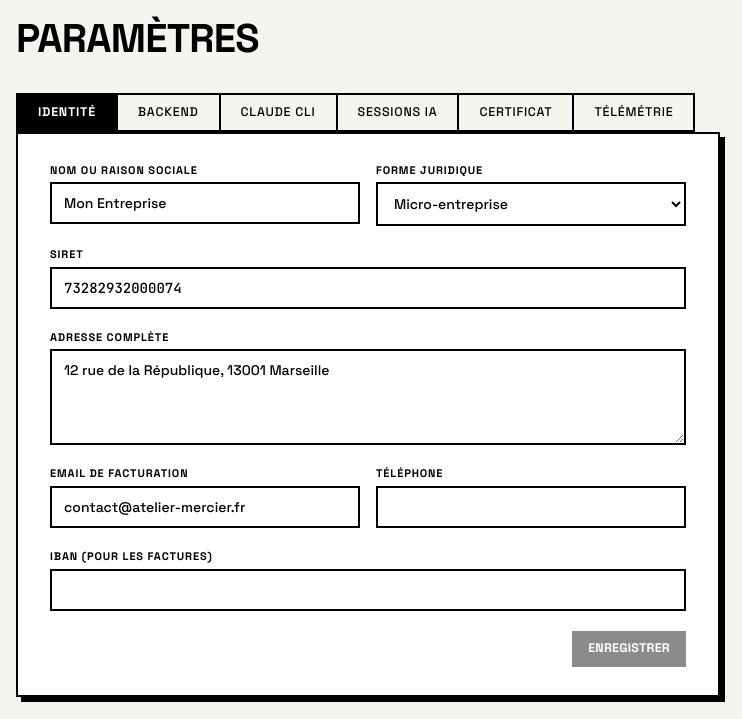
Test: SettingsRoute — tab Sessions IA (verbose mode) › affiche la section toggle verbose
This screenshot has width=742, height=719.
Click the tab "Sessions IA" at coordinates (397, 112), box [336,93,459,132]
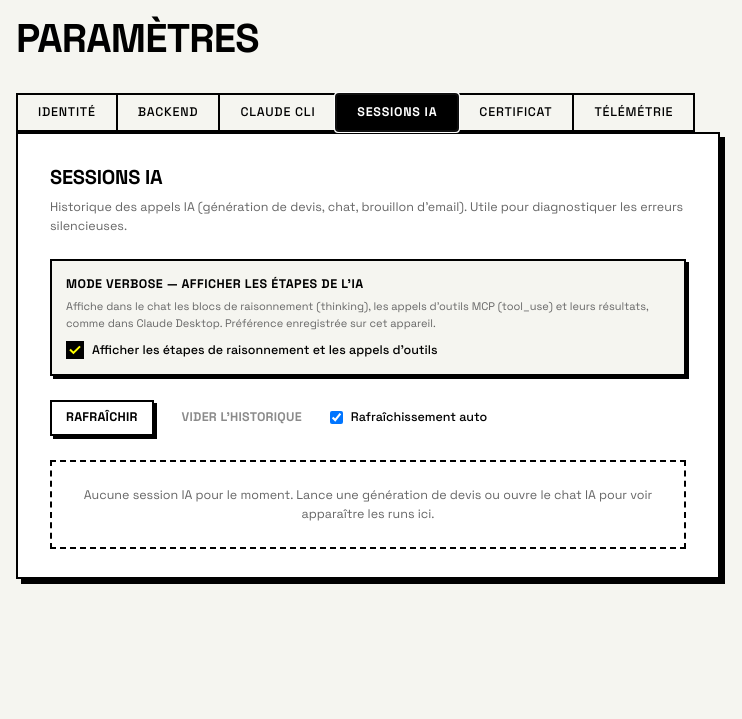
Now the element with test id "settings-ai-verbose-section" is shown, box [50,259,686,376]
